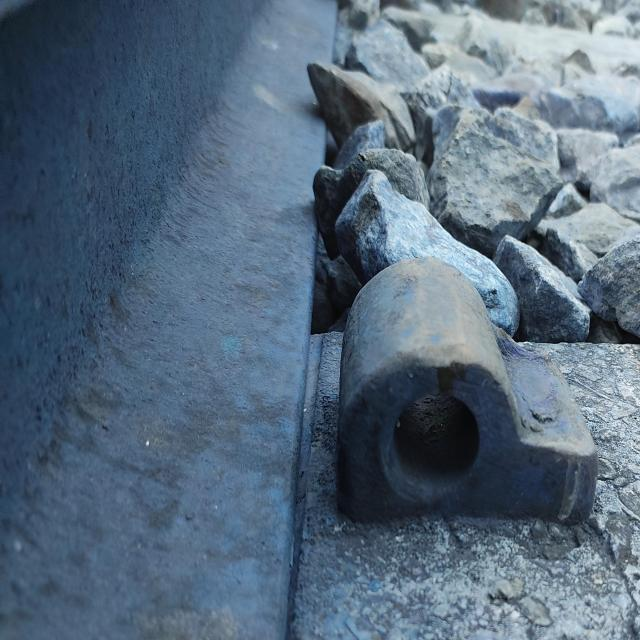Missing Fastener: (299, 215, 635, 624)
